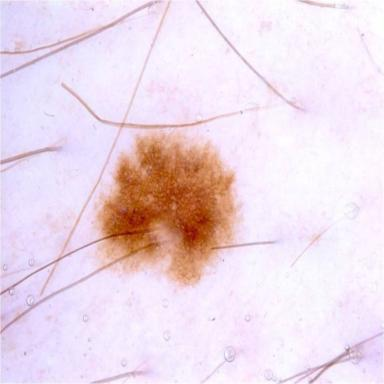nevus: (96, 132, 243, 285)
